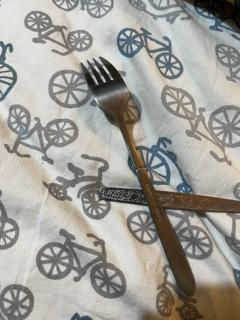fork: (76, 55, 200, 299)
